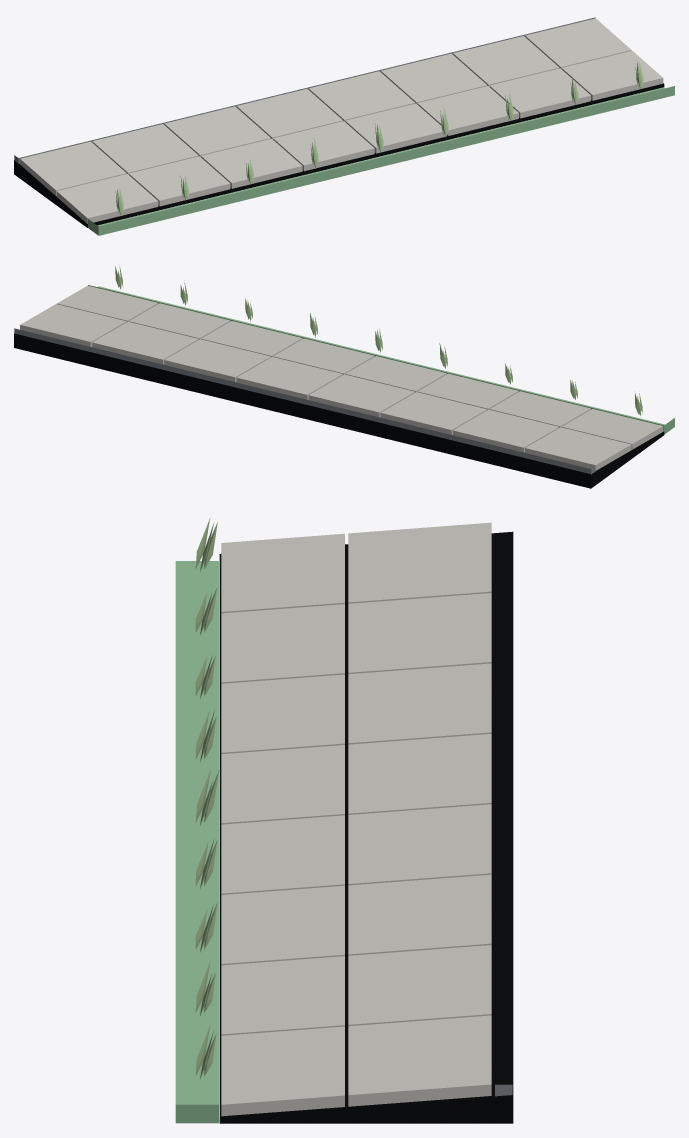
Rendered from v3_apron.glb.
3 views of the same model, one above another, from view 1: azimuth 30°, elevation 25°; view 2: azimuth 150°, elevation 25°; view 3: azimuth 270°, elevation 25° (orthographic). The views are drawn at different scales.
Parts seen in each view (by area): view 1: Pavers_A, Pavers_B, Nosing_Line, Apron_Body, Edge_Tufts, Drain_Grate; view 2: Pavers_B, Pavers_A, Apron_Body, Drain_Grate, Nosing_Line, Edge_Tufts; view 3: Pavers_B, Pavers_A, Apron_Body, Nosing_Line, Edge_Tufts.
Part boxes in pixels (left/top/right/bottom): Pavers_A: left=20, top=36, right=663, bottom=206; Pavers_B: left=56, top=18, right=631, bottom=223; Nosing_Line: left=88, top=86, right=674, bottom=235; Apron_Body: left=14, top=83, right=664, bottom=227; Edge_Tufts: left=115, top=61, right=643, bottom=215; Drain_Grate: left=14, top=17, right=595, bottom=163; Pavers_B: left=20, top=303, right=663, bottom=452; Pavers_A: left=57, top=285, right=631, bottom=470; Apron_Body: left=14, top=333, right=664, bottom=488; Drain_Grate: left=14, top=328, right=595, bottom=474; Nosing_Line: left=88, top=285, right=674, bottom=434; Edge_Tufts: left=115, top=266, right=642, bottom=415; Pavers_B: left=221, top=533, right=491, bottom=1106; Pavers_A: left=221, top=522, right=491, bottom=1116; Apron_Body: left=219, top=531, right=513, bottom=1123; Nosing_Line: left=175, top=561, right=218, bottom=1123; Edge_Tufts: left=195, top=518, right=219, bottom=1079.
Size of what is drawn, in the model's own units: 4 by 0.2421 by 1.01.
5 materials, 1 textured.
